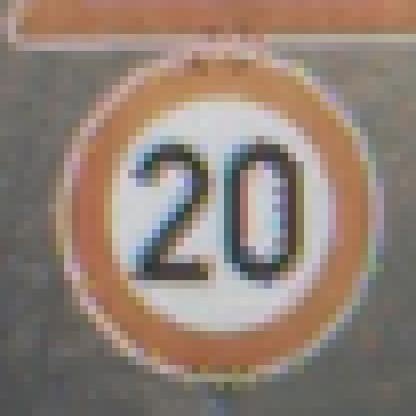Speed Limit -20-: (64, 44, 382, 389)
